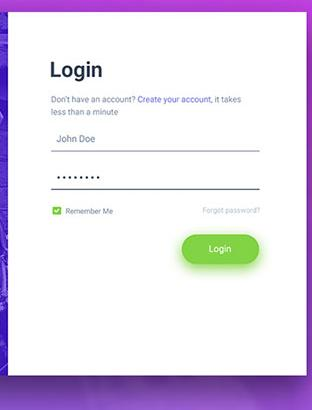button: (182, 235, 259, 264)
checkbox: (52, 205, 64, 215)
checkbox_with_label: (49, 202, 113, 217)
field_line: (49, 131, 260, 153), (51, 172, 261, 191)
